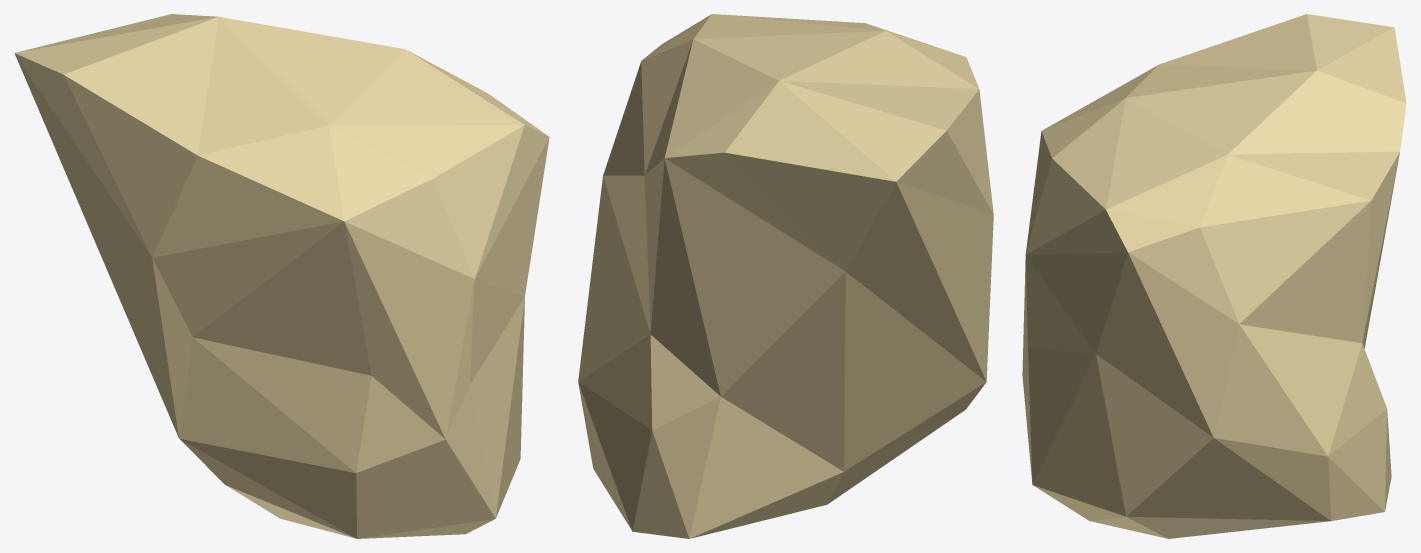
Rendered from Rock (23).fbx.
3 renders of one model, left to right at view 1: azimuth 30°, elevation 25°; view 2: azimuth 150°, elevation 25°; view 3: azimuth 270°, elevation 25°, orthographic. The views are drawn at different scales.
Visible parts, largest first — view 1: Asteroid22; view 2: Asteroid22; view 3: Asteroid22.
Part boxes in pixels (x1,y1,x2,y2): Asteroid22: [14, 14, 549, 538]; Asteroid22: [578, 14, 993, 538]; Asteroid22: [1022, 14, 1406, 538].
Size of the model in its own units: 174 by 196 by 166.
